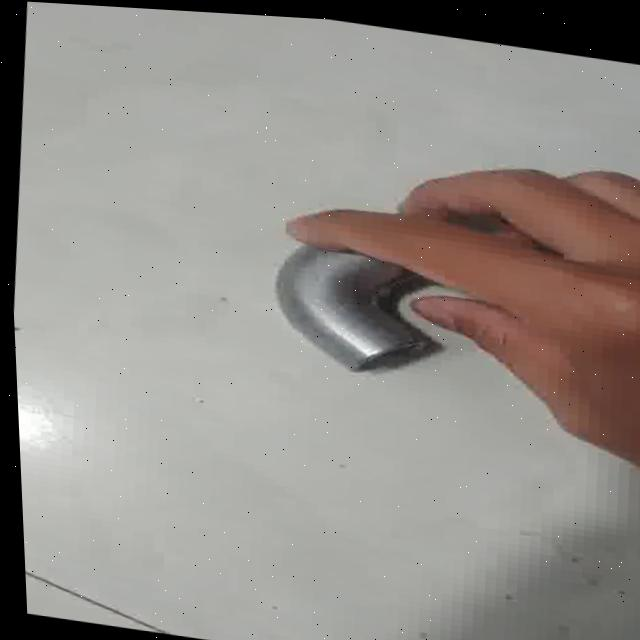Dry: (257, 229, 451, 386)
